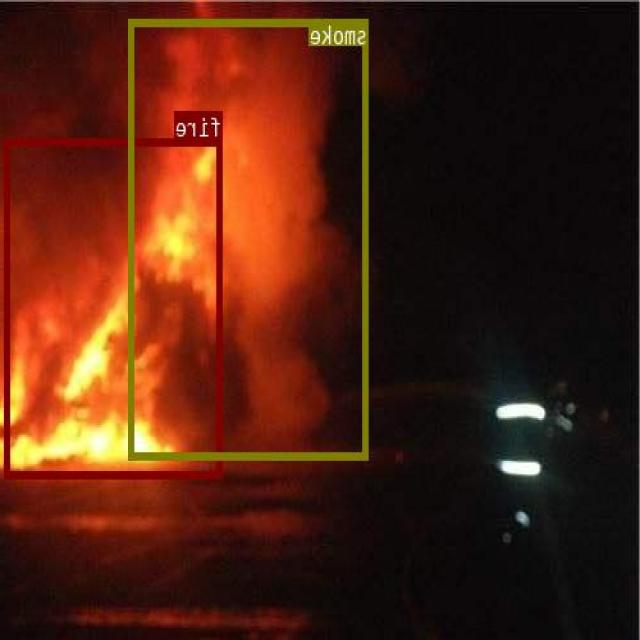fire: (6, 138, 223, 478)
smoke: (130, 18, 370, 459)
